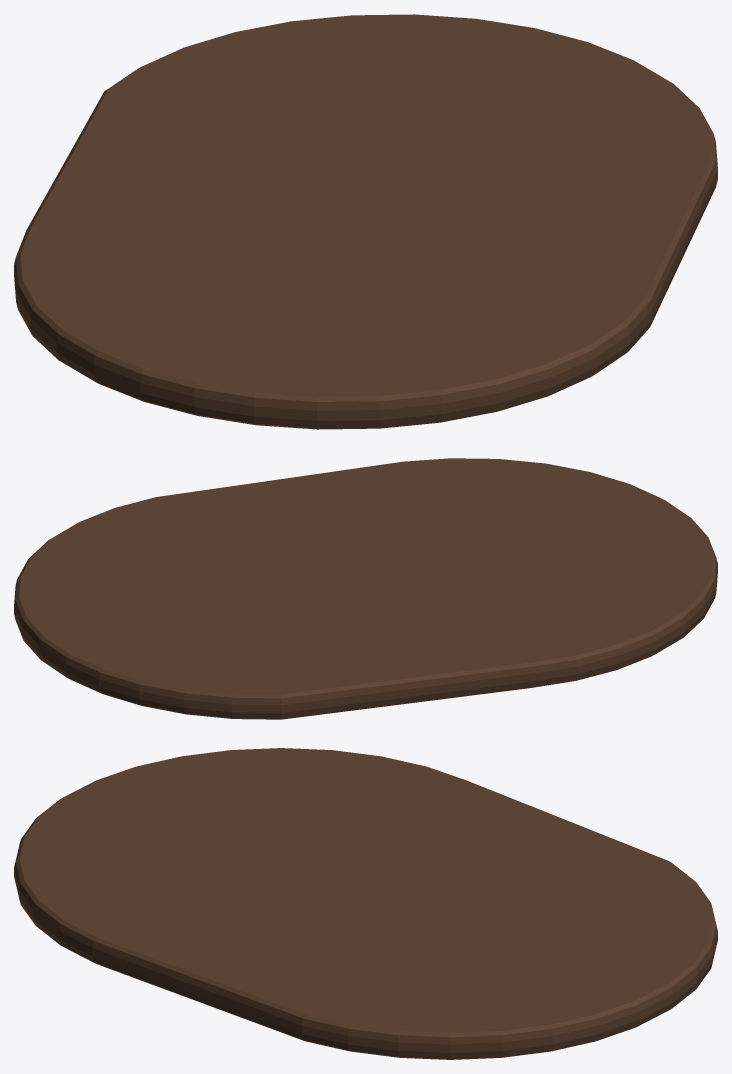
Rendered from Tagliere 3.fbx.
The picture shows the model from 3 angles, top to bottom: view 1: azimuth 30°, elevation 25°; view 2: azimuth 150°, elevation 25°; view 3: azimuth 270°, elevation 25°; orthographic projection. The views are drawn at different scales.
Parts seen in each view (by area): view 1: Cutter plan.002; view 2: Cutter plan.002; view 3: Cutter plan.002.
Part boxes in pixels (box(x1,y1,x2,y2)): Cutter plan.002: box(14, 14, 717, 429); Cutter plan.002: box(14, 458, 717, 719); Cutter plan.002: box(14, 748, 717, 1059).
Size of the model in its own units: 126 by 5.45 by 129.
